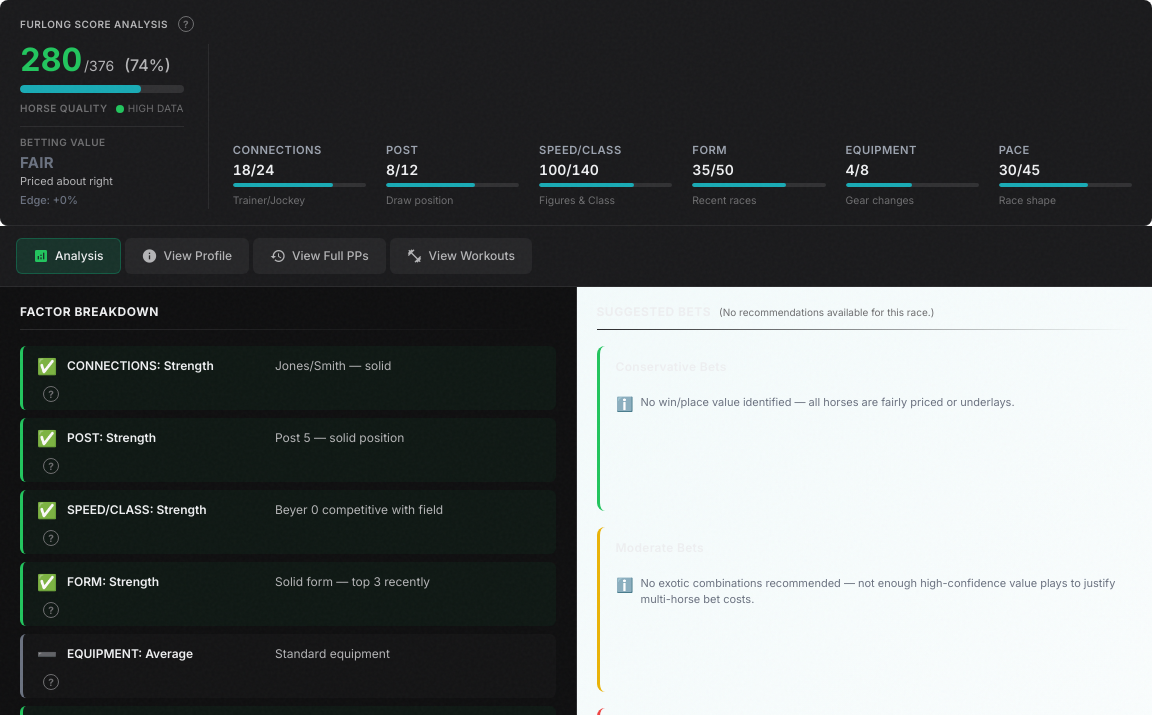
it: HorseExpandedView › Tab Navigation › switches to workouts tab and shows no data message when empty
The image size is (1152, 715).
Click the text "View Workouts" at (472,256), box [429,247,515,265]
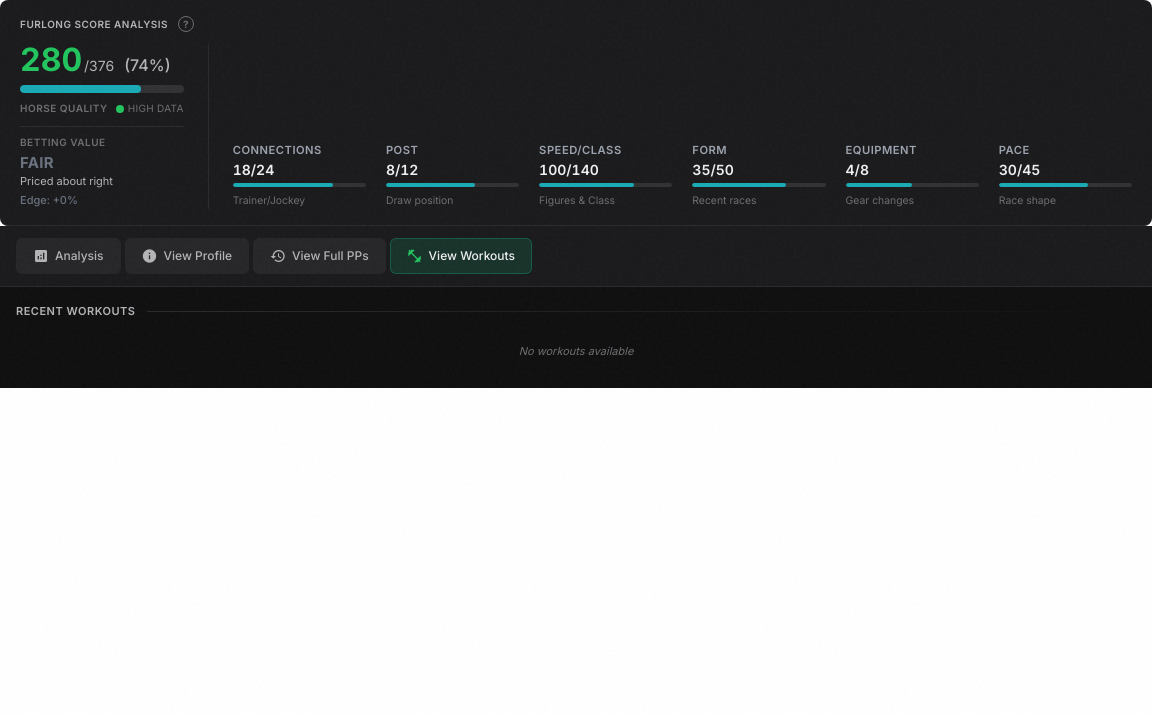
Result: the text "No workouts available" is shown at [519,344,633,358]
